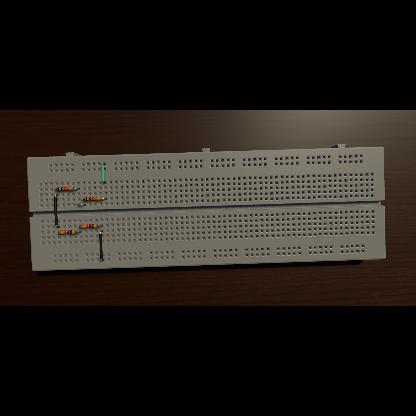breadboard: (26, 144, 386, 272)
resistor: (56, 186, 74, 192), (81, 224, 97, 230), (85, 197, 101, 201), (60, 231, 76, 235)
wire: (54, 194, 60, 228), (100, 231, 104, 261), (102, 163, 106, 183), (78, 204, 86, 206), (73, 188, 79, 190), (97, 225, 103, 226), (75, 232, 81, 233), (56, 190, 56, 190), (83, 200, 85, 200), (80, 226, 80, 228), (58, 232, 58, 234)
